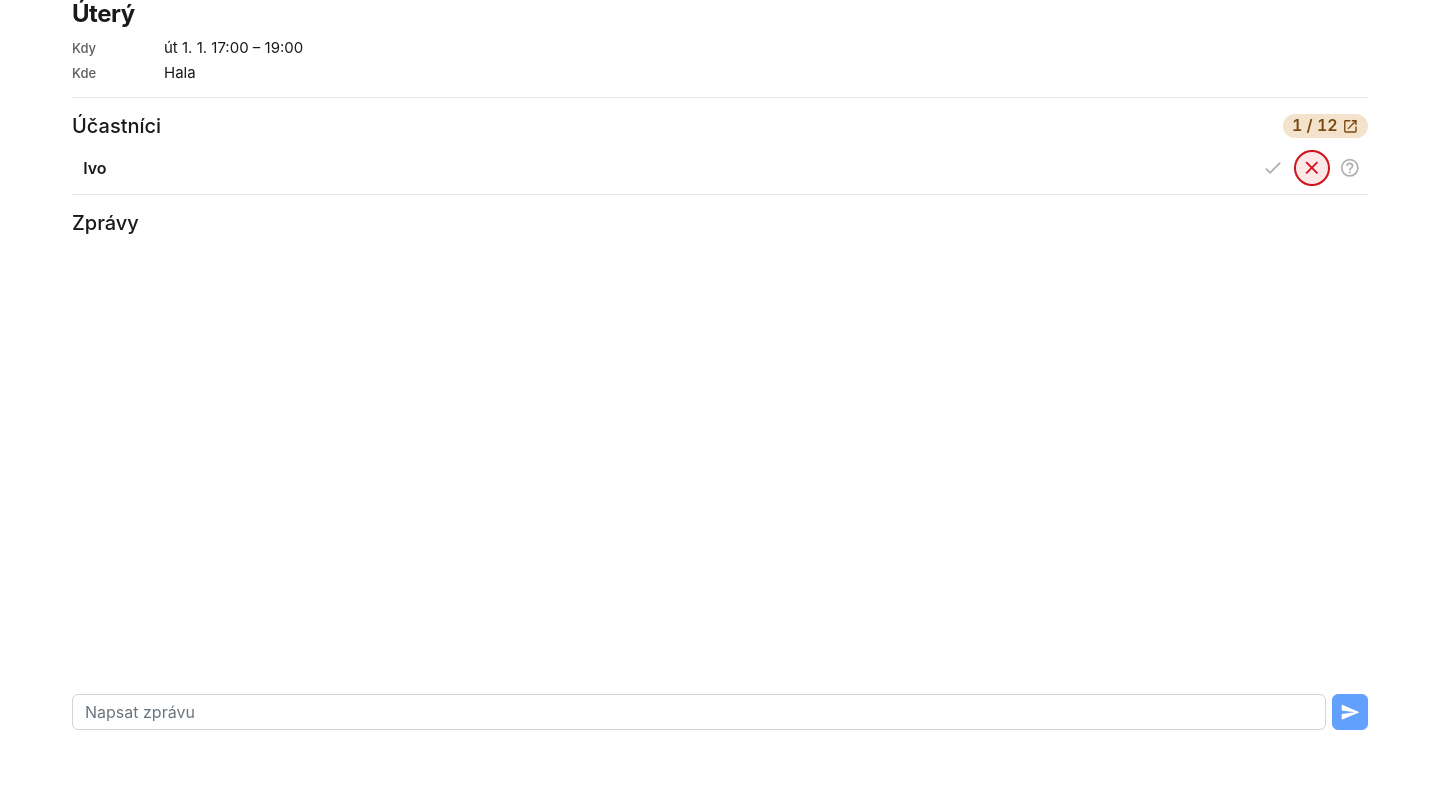
Test: non-admin cannot change another member's attendance
This screenshot has width=1440, height=810.
Click the button named "otevřít účastníky" at (1326, 126), box [1283,114,1368,138]
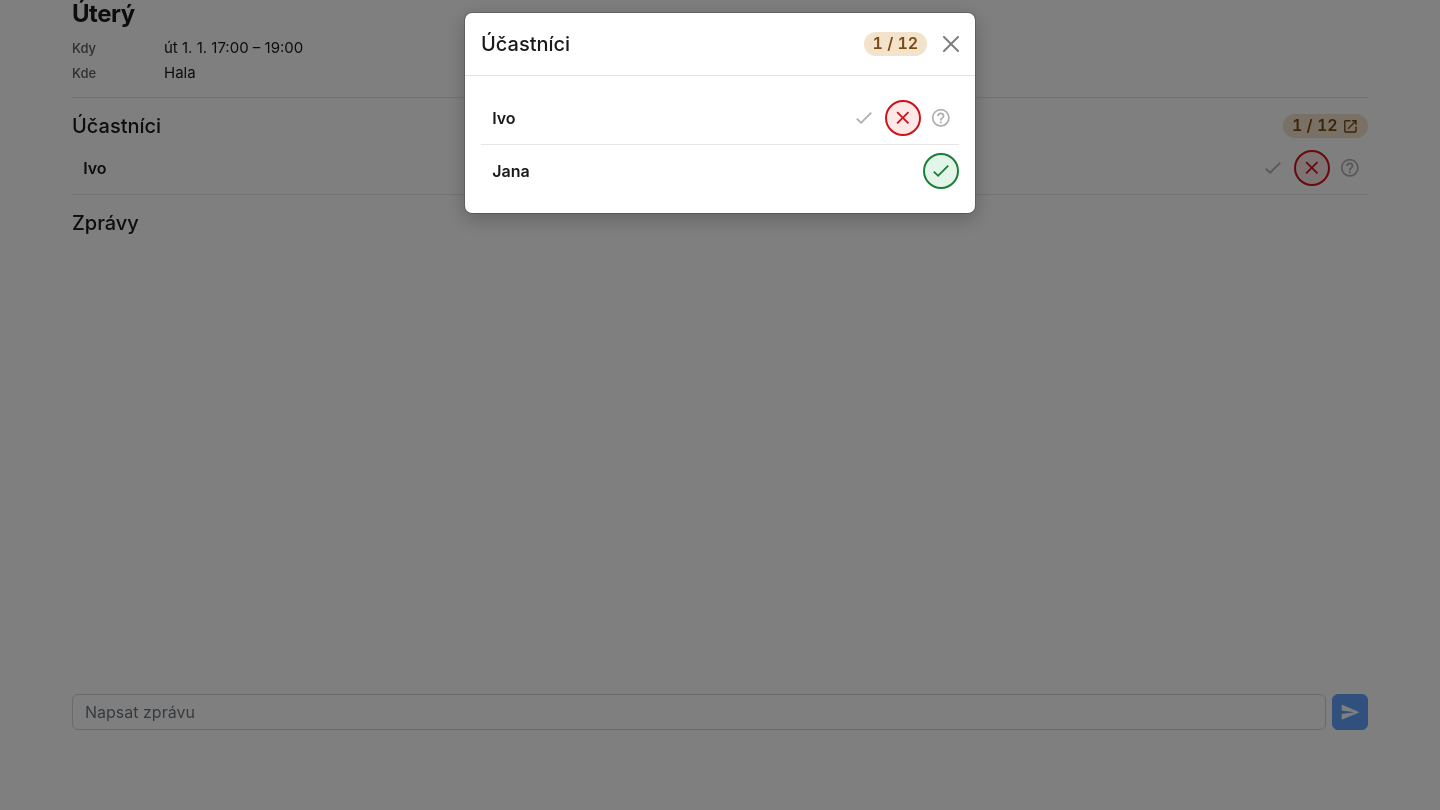
Expected: the text "Ivo" is shown, [492,106,516,130]
Expected: the icon named "Jana: Jdu" is shown, [923,153,959,189]
Expected: the button named "Ivo: Jdu" is shown, [846,100,882,136]
